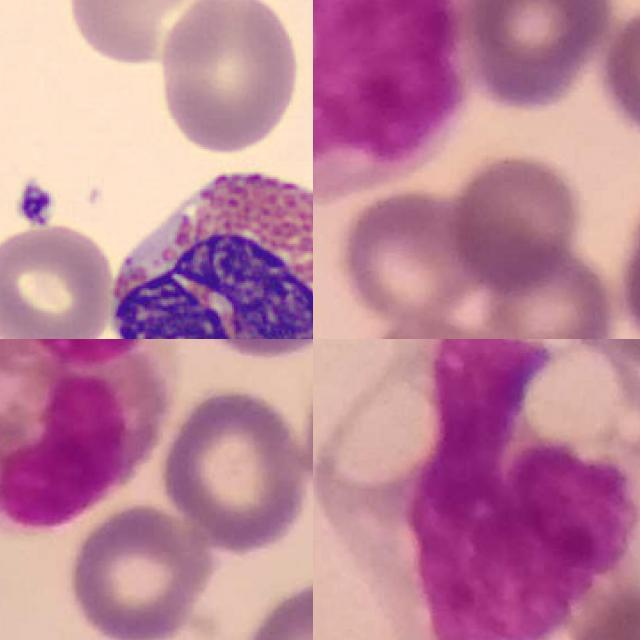Eosinophil: (99, 141, 313, 339), (0, 339, 181, 529)
Monocyte: (313, 339, 637, 640), (313, 0, 470, 182)
Platelets: (12, 177, 60, 228)
RBC: (152, 0, 306, 157), (0, 222, 116, 339), (59, 0, 228, 68)
